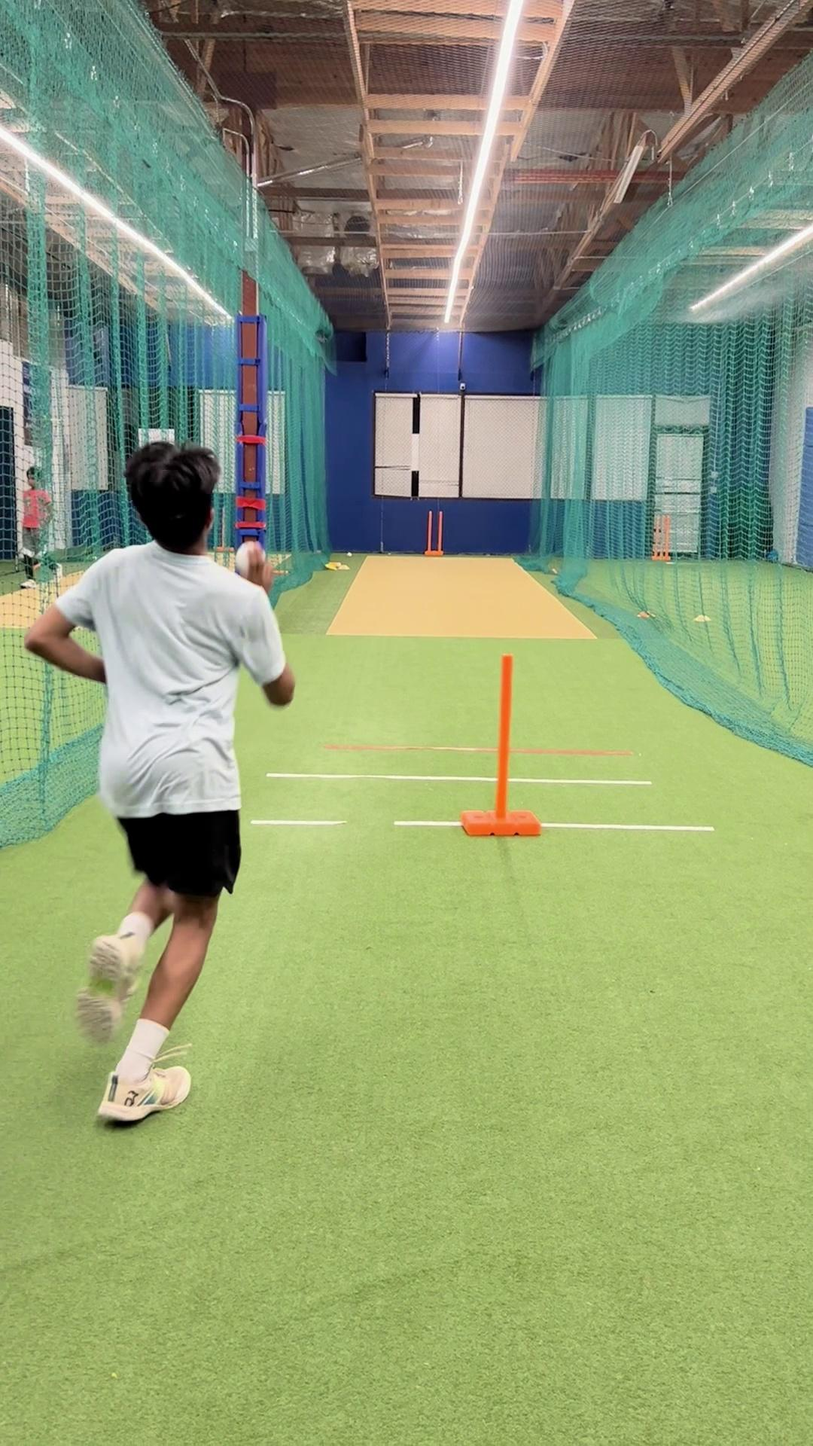ball: (226, 536, 278, 581)
